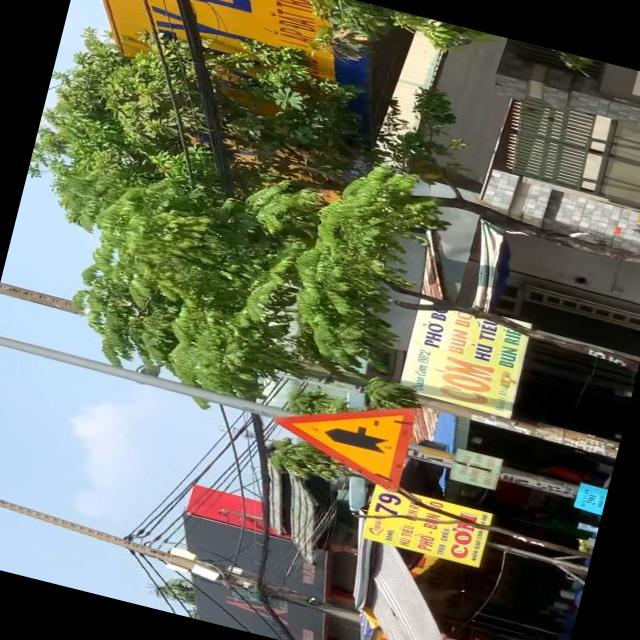W-207b: (258, 370, 422, 496)
